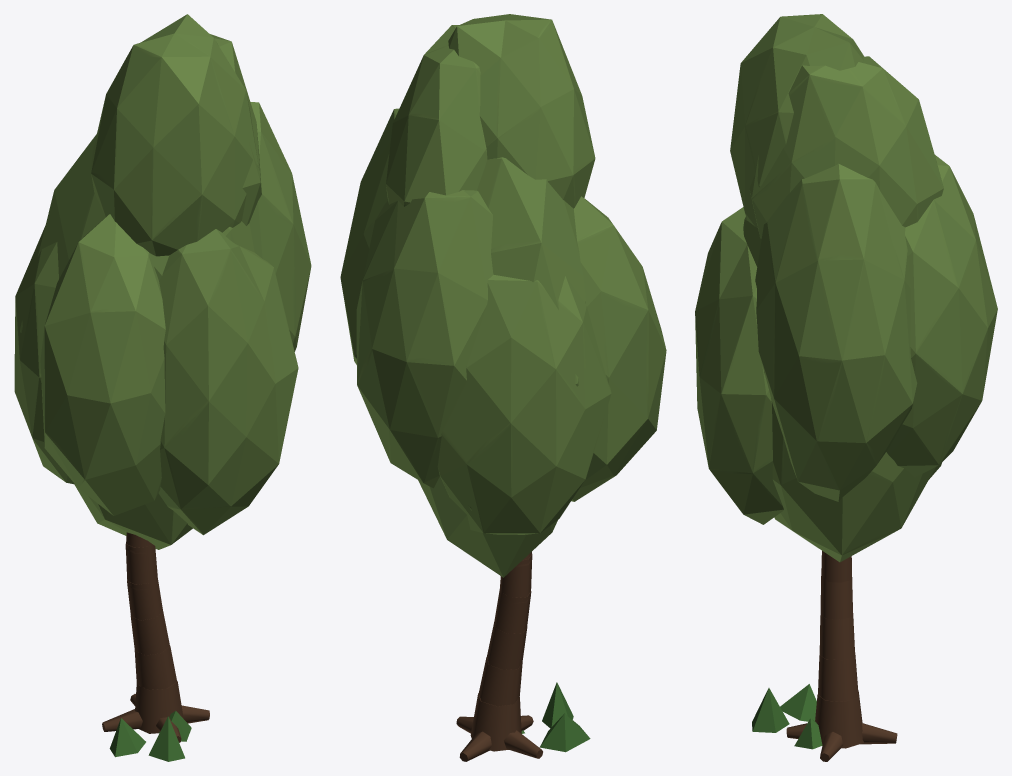
File: pw_deciduous_03.glb
3 views of the same model, side by side, from view 1: azimuth 30°, elevation 25°; view 2: azimuth 150°, elevation 25°; view 3: azimuth 270°, elevation 25° (orthographic). The views are drawn at different scales.
Visible parts, largest first — view 1: tree-batch-0, space-colonized-branches (×2), vegetation-ground-tufts-baked; view 2: tree-batch-0, space-colonized-branches (×2), vegetation-ground-tufts-baked; view 3: tree-batch-0, space-colonized-branches (×2), vegetation-ground-tufts-baked.
Boxes of the visible parts, x1,y1,x2,y2 form: tree-batch-0: (14,14,311,549); space-colonized-branches (×2): (102,532,209,742); vegetation-ground-tufts-baked: (109,711,191,761); tree-batch-0: (340,14,666,577); space-colonized-branches (×2): (456,552,542,761); vegetation-ground-tufts-baked: (521,682,590,752); tree-batch-0: (695,14,997,562); space-colonized-branches (×2): (786,551,897,761); vegetation-ground-tufts-baked: (752,684,822,749).
Size of the model in its own units: 7.13 by 17.5 by 6.69.
